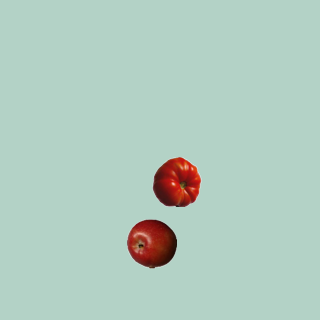Apple Braeburn: (126, 218, 176, 268)
Tomato 3: (151, 156, 201, 206)
